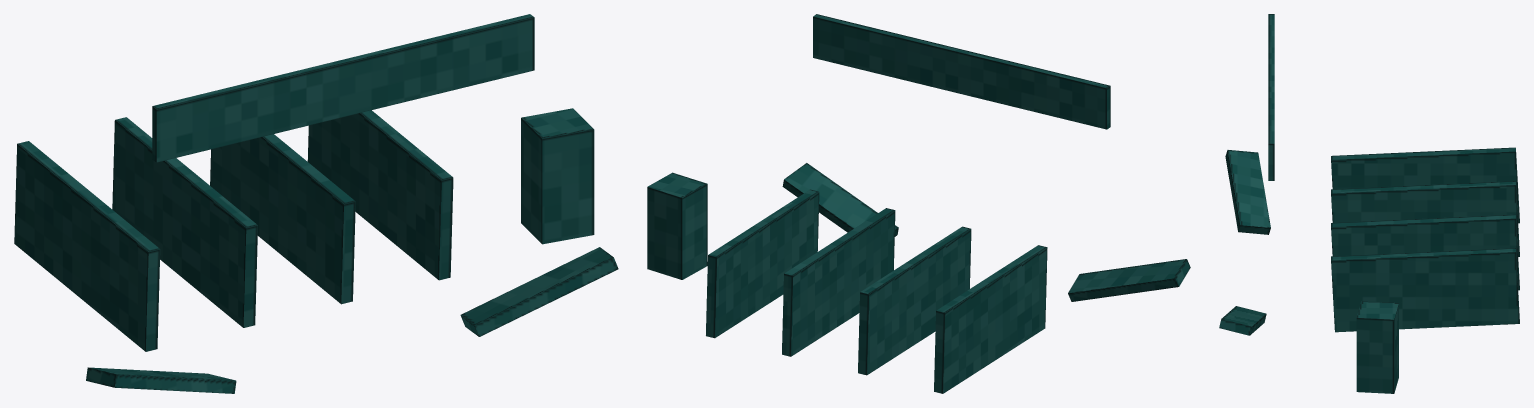
Rendered from cleanstreets_toll_pavilion_fixtures.obj.
The picture shows the model from 3 angles, left to right: view 1: azimuth 30°, elevation 25°; view 2: azimuth 150°, elevation 25°; view 3: azimuth 270°, elevation 25°; orthographic projection. The views are drawn at different scales.
Bounding box in the file's own units: 8.98 × 4.31 × 5.69.
Materials: 1 (1 with a texture image).
